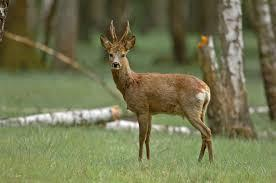Non_Gorille: (82, 11, 235, 169)
